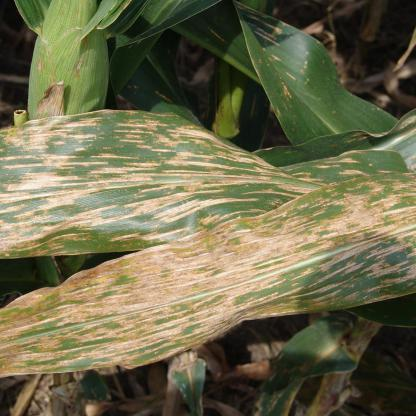corn leaf blight: (0, 171, 414, 377), (3, 119, 416, 256)
